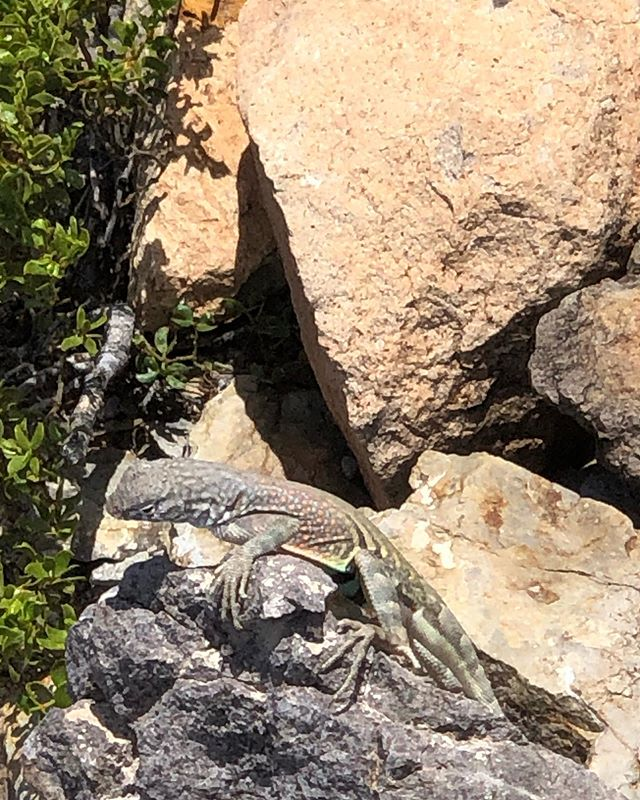animal: (103, 441, 527, 744)
rocks: (105, 1, 640, 524)
